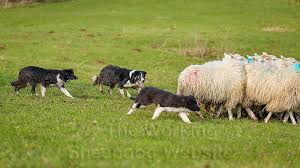sheep: (177, 54, 250, 122), (247, 60, 300, 118), (219, 44, 290, 73)
